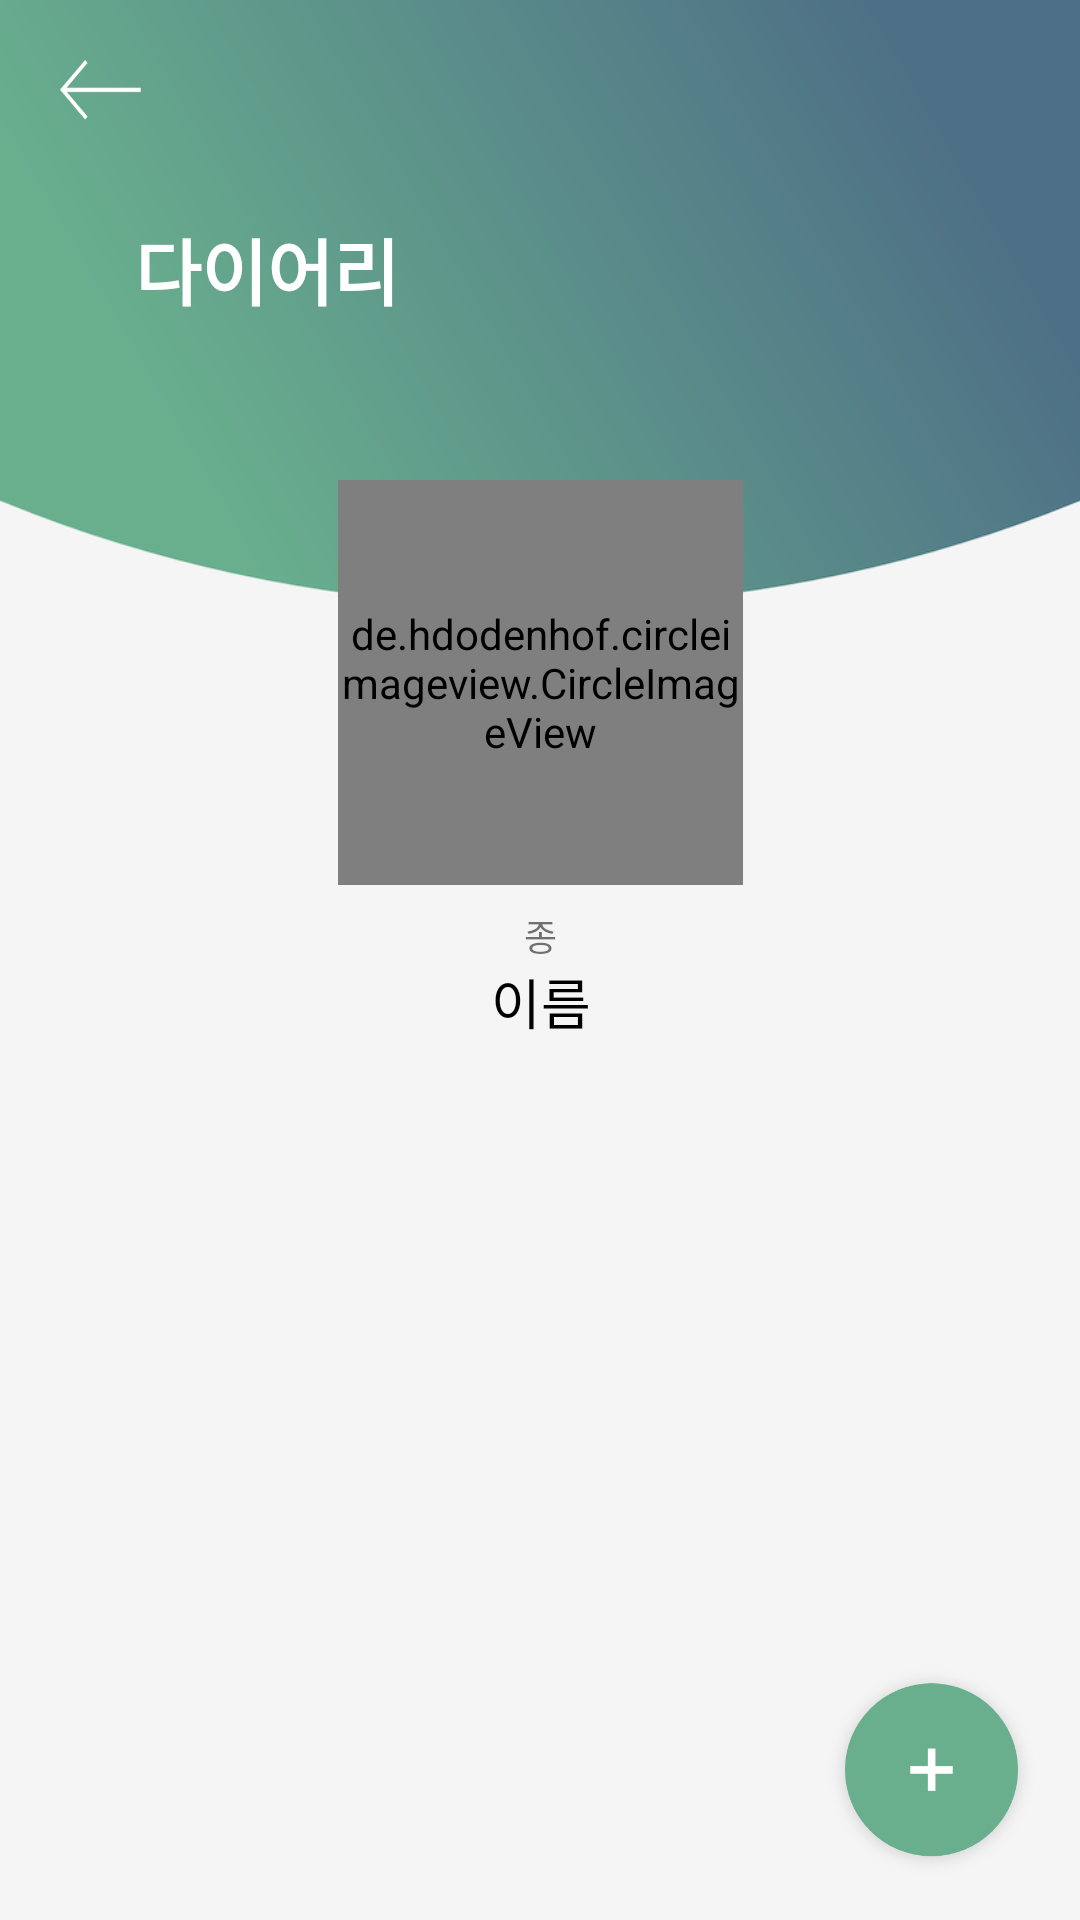

Point at icon controls on the screen. Image size 1080 × 1920, points as point (x, y).
back: point (100, 90)
plusplnat: point (931, 1770)
